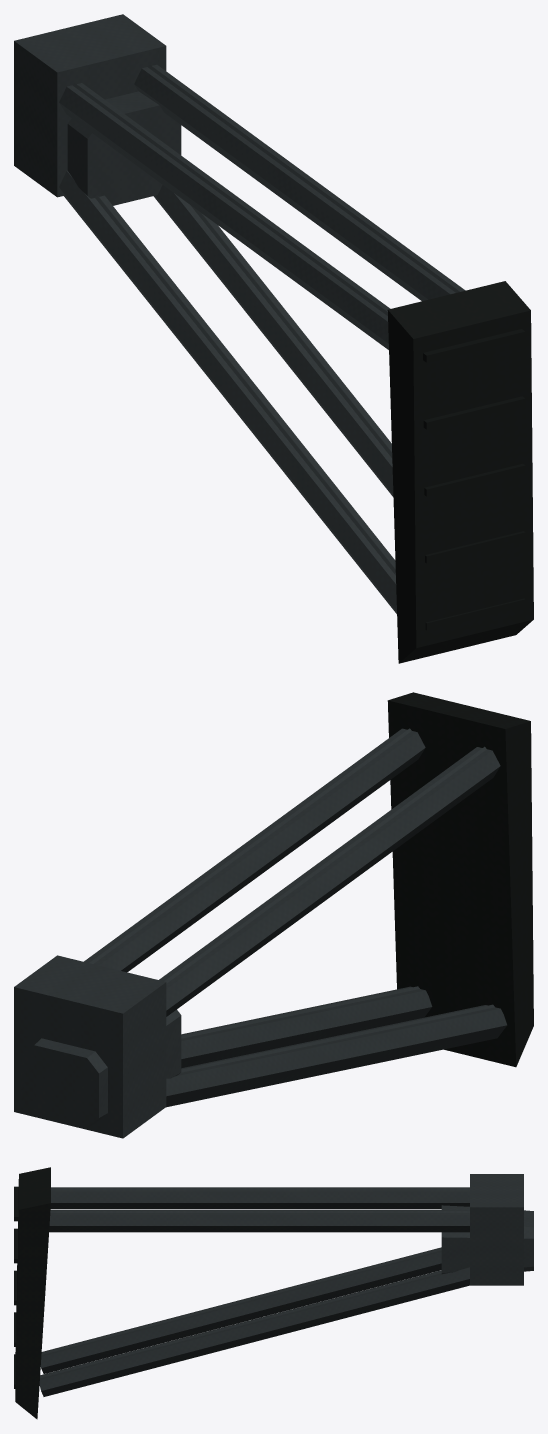
Rendered from vityaz_stock.glb.
The picture shows the model from 3 angles, top to bottom: view 1: azimuth 30°, elevation 25°; view 2: azimuth 150°, elevation 25°; view 3: azimuth 270°, elevation 25°; orthographic projection. The views are drawn at different scales.
Visible parts, largest first — view 1: stock__vityaz_stock_LOD0_RAID_Secondary_Original_steel, stock__vityaz_stock_LOD0_RAID_Secondary_Original_rubber, stock__vityaz_stock_LOD1_RAID_Secondary_Original_rubber, stock__vityaz_stock_LOD1_RAID_Secondary_Original_steel; view 2: stock__vityaz_stock_LOD0_RAID_Secondary_Original_steel, stock__vityaz_stock_LOD0_RAID_Secondary_Original_rubber, stock__vityaz_stock_LOD1_RAID_Secondary_Original_rubber, stock__vityaz_stock_LOD1_RAID_Secondary_Original_steel; view 3: stock__vityaz_stock_LOD0_RAID_Secondary_Original_steel, stock__vityaz_stock_LOD0_RAID_Secondary_Original_rubber, stock__vityaz_stock_LOD1_RAID_Secondary_Original_rubber, stock__vityaz_stock_LOD1_RAID_Secondary_Original_steel.
Part boxes in pixels (bbox=[...]): stock__vityaz_stock_LOD0_RAID_Secondary_Original_steel: bbox=[14, 14, 465, 613]; stock__vityaz_stock_LOD0_RAID_Secondary_Original_rubber: bbox=[388, 284, 531, 661]; stock__vityaz_stock_LOD1_RAID_Secondary_Original_rubber: bbox=[387, 281, 533, 663]; stock__vityaz_stock_LOD1_RAID_Secondary_Original_steel: bbox=[72, 64, 459, 575]; stock__vityaz_stock_LOD0_RAID_Secondary_Original_steel: bbox=[14, 728, 507, 1138]; stock__vityaz_stock_LOD0_RAID_Secondary_Original_rubber: bbox=[390, 693, 532, 1063]; stock__vityaz_stock_LOD1_RAID_Secondary_Original_rubber: bbox=[387, 692, 533, 1067]; stock__vityaz_stock_LOD1_RAID_Secondary_Original_steel: bbox=[89, 728, 494, 1072]; stock__vityaz_stock_LOD0_RAID_Secondary_Original_steel: bbox=[39, 1174, 533, 1396]; stock__vityaz_stock_LOD0_RAID_Secondary_Original_rubber: bbox=[14, 1168, 49, 1416]; stock__vityaz_stock_LOD1_RAID_Secondary_Original_rubber: bbox=[15, 1167, 50, 1419]; stock__vityaz_stock_LOD1_RAID_Secondary_Original_steel: bbox=[40, 1188, 469, 1378].
Bounding box in the file's own units: 0.069 × 0.194 × 0.422.
2 materials, 2 textured.
